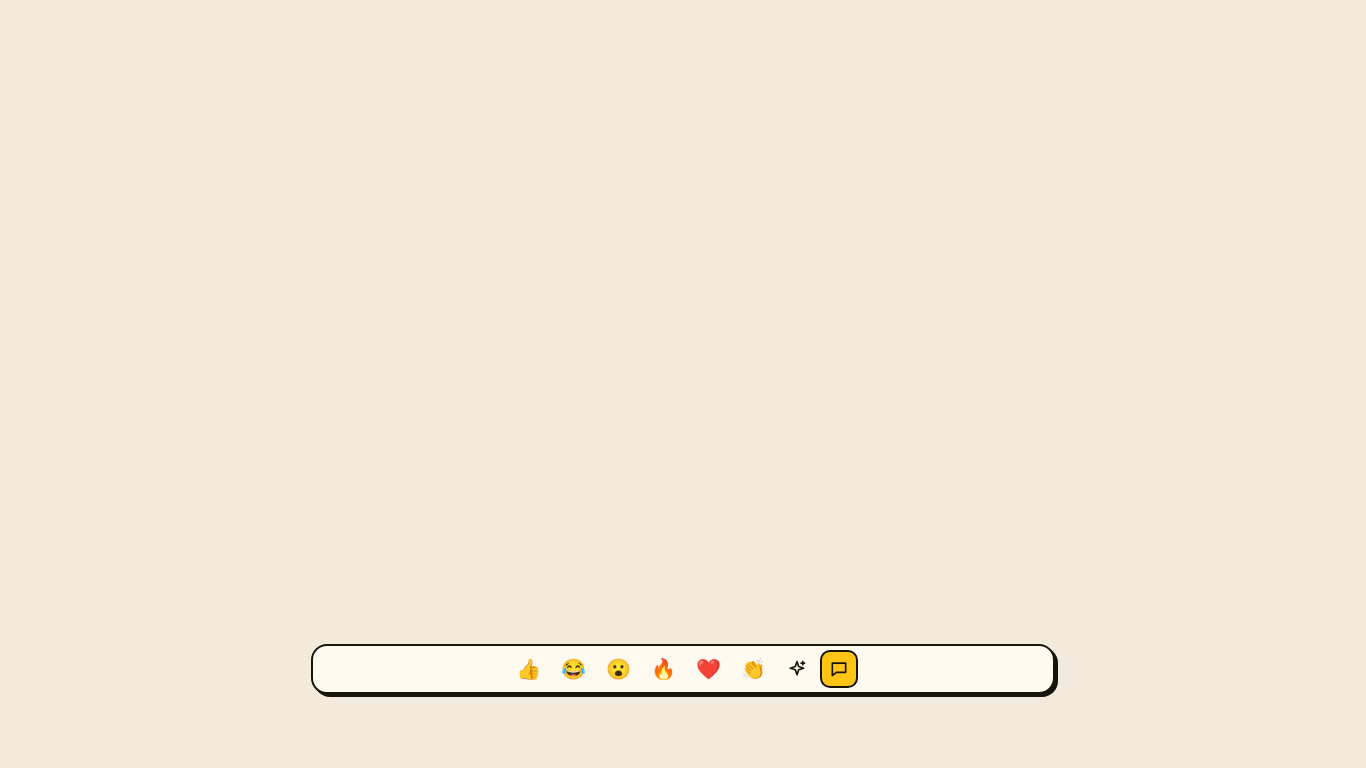
it: chat, reaksi, stiker › panel chat dan lembar stiker terbuka tanpa Firebase (aman, tidak error)
Step 1. Click the button named "Chat" → (839, 669), box [820, 650, 858, 688]
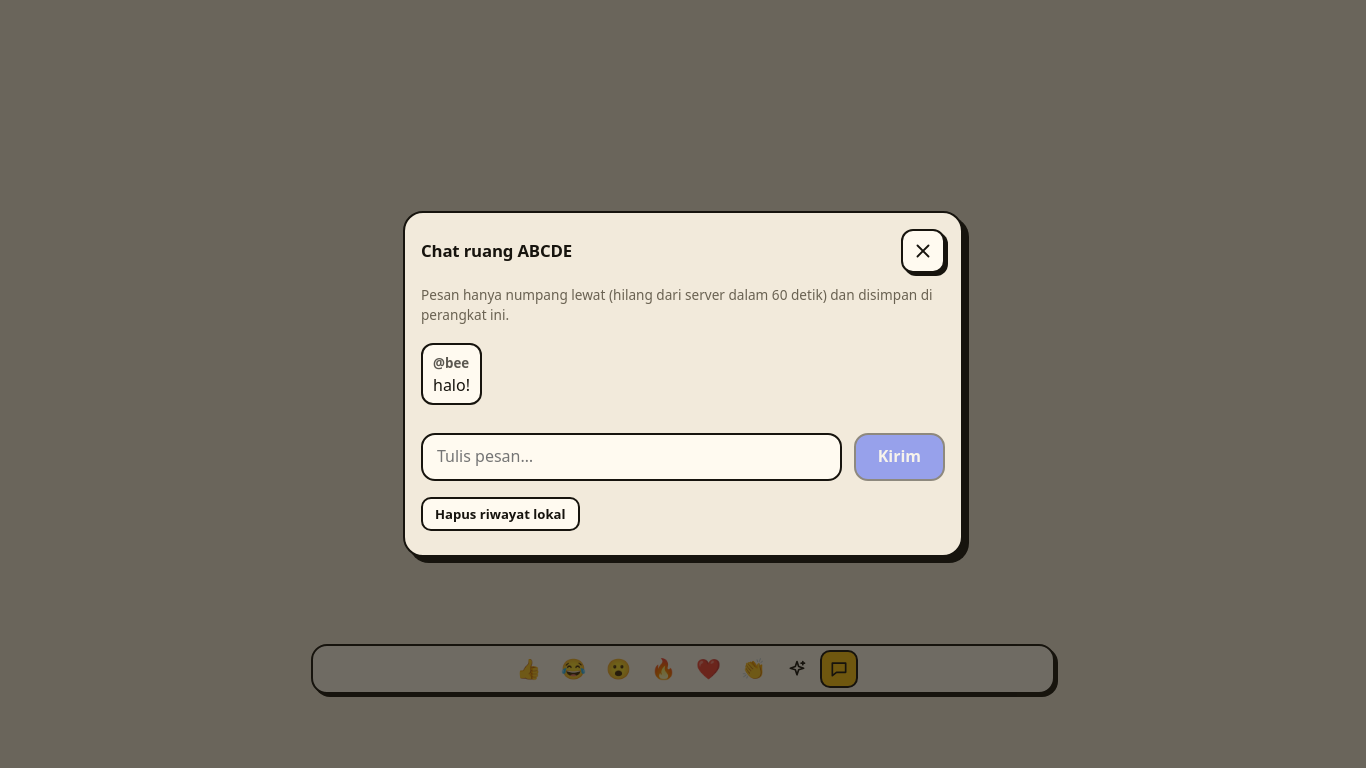
expect the text "halo!" is shown: met, box [433, 374, 470, 397]
expect the text "numpang lewat" is shown: met, box [421, 285, 933, 324]
Step 2. Click the button "Hapus riwayat lokal" → (500, 514), box [421, 497, 580, 531]
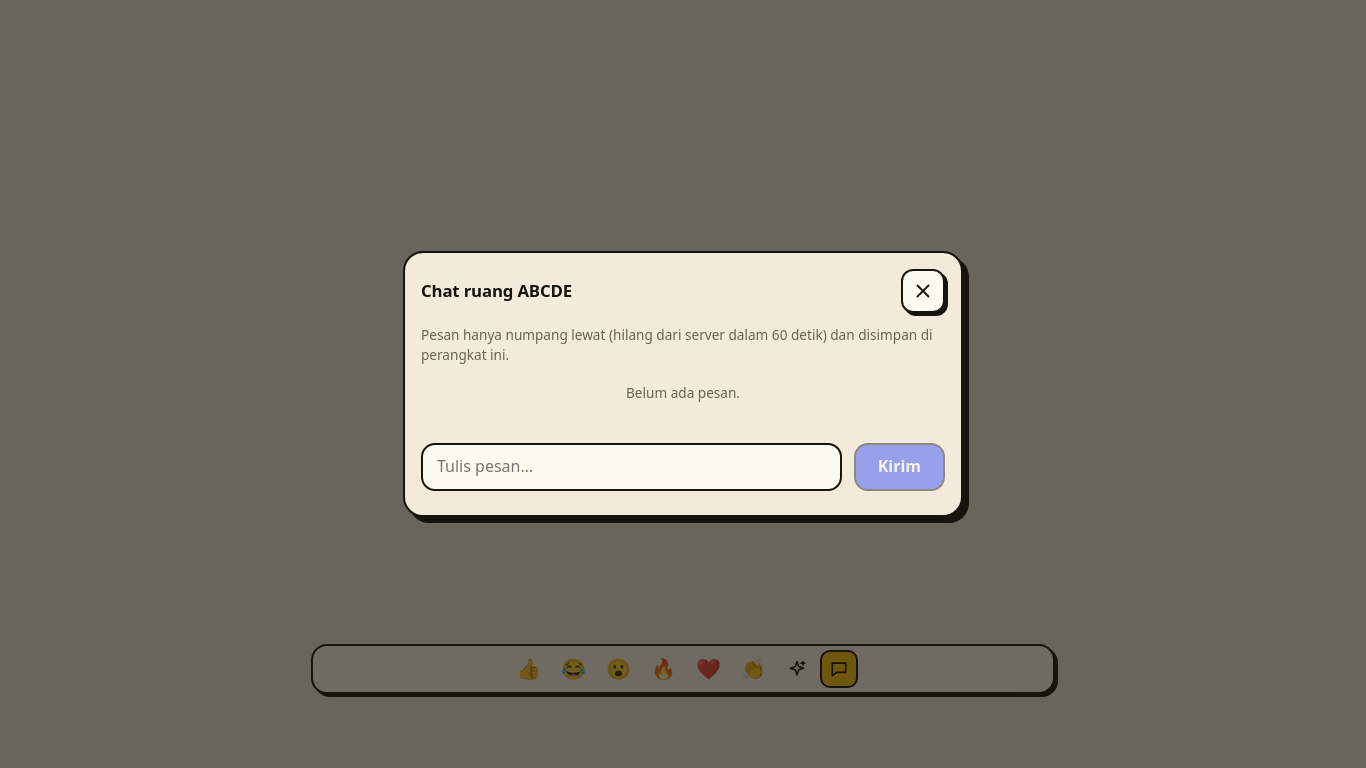
expect the text "Belum ada pesan." is shown: met, box [626, 383, 740, 402]
Step 3. Click the button named "Tutup" → (923, 291), box [901, 269, 945, 313]
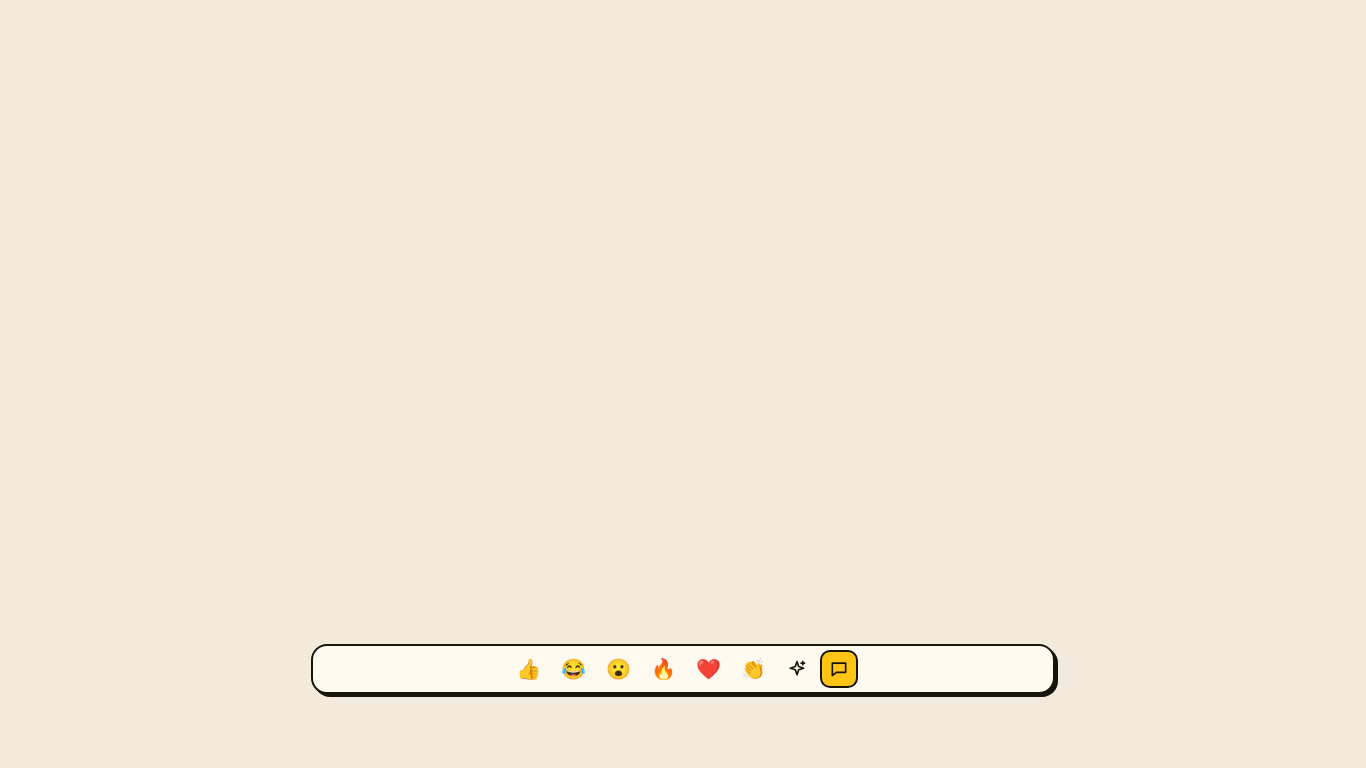
Step 4. Click the button named "Stiker" → (797, 669), box [778, 650, 816, 688]
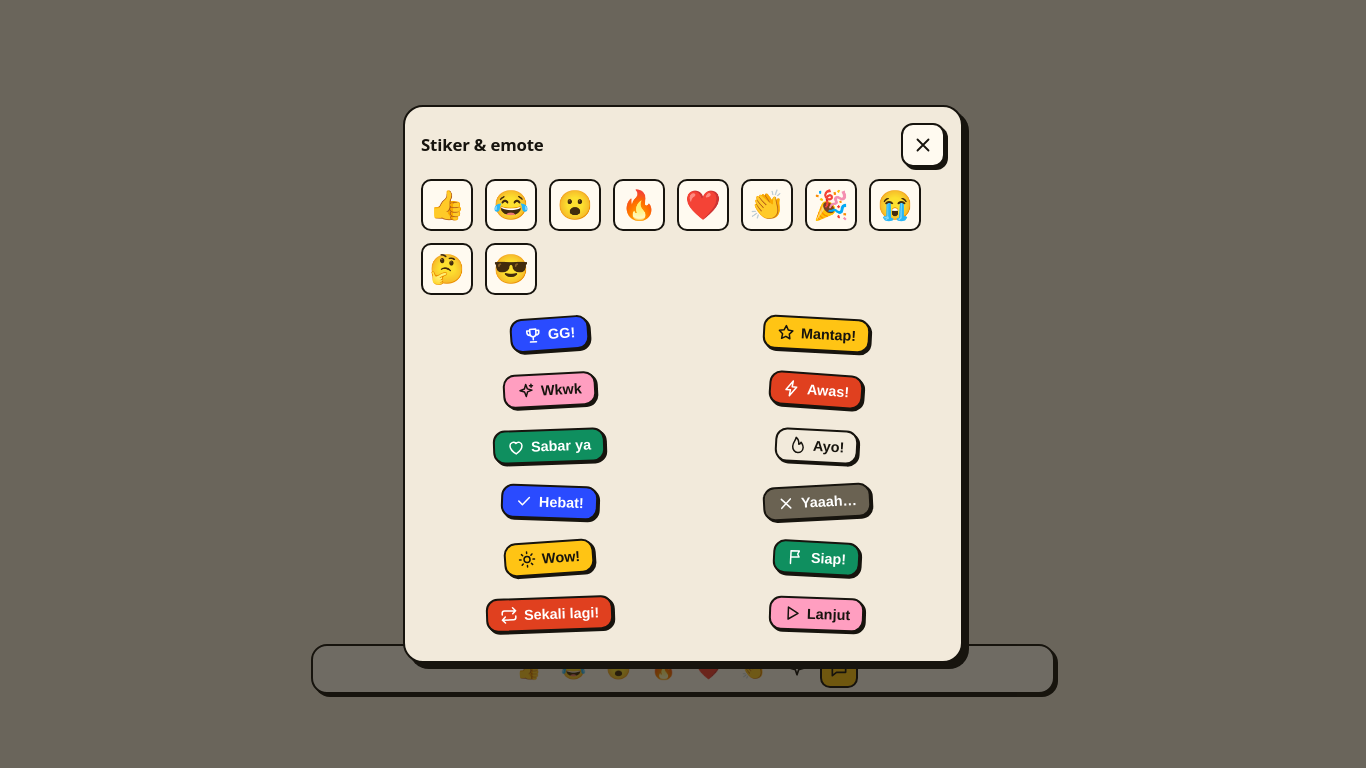
expect the text "Mantap!" is shown: met, box [762, 314, 871, 354]
